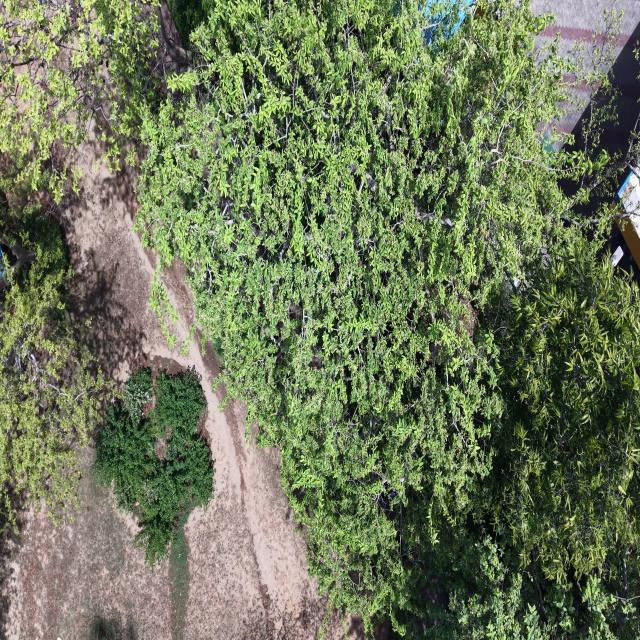DRY_AREA: (0, 145, 326, 639), (0, 146, 325, 639), (2, 451, 171, 639), (531, 0, 639, 158), (531, 0, 639, 153), (531, 0, 639, 58), (531, 0, 639, 40)
VEGETATION_TREE: (88, 0, 639, 639), (138, 0, 638, 638), (138, 2, 563, 618), (426, 232, 639, 639), (0, 0, 155, 523), (492, 235, 639, 581), (0, 208, 104, 524), (0, 0, 157, 202), (95, 368, 213, 566), (0, 0, 103, 199), (168, 0, 207, 45)
